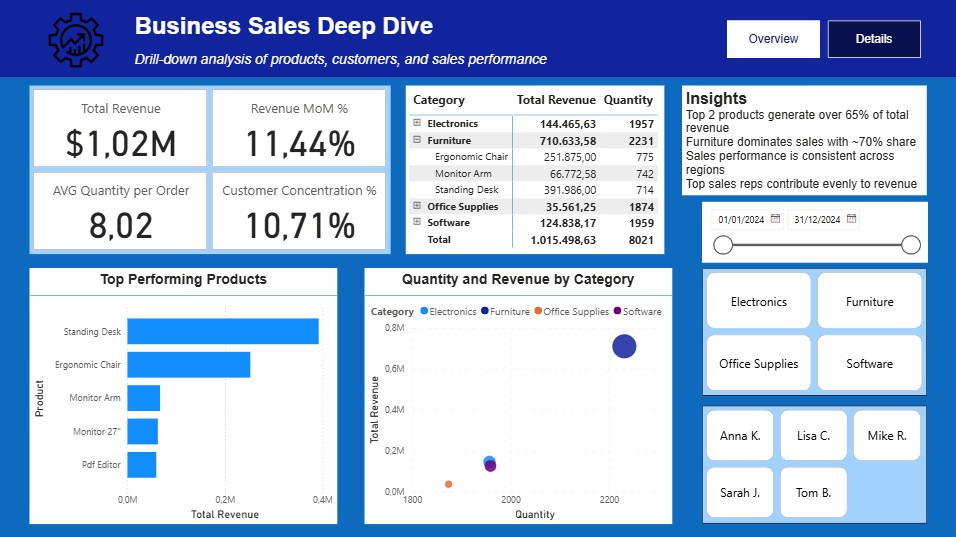

The dashboard page shown, as its layout file describes it:
{"tool":"powerbi","page":{"name":"Details","canvas":[1280,720],"ordinal":1},"visuals":[{"type":"shape","box":[0,0,1279.7,106.8],"z":0},{"type":"shape","box":[0,106.8,1279.7,613.2],"z":2000},{"type":"cardVisual","fields":{"Data":["SalesUS.Total Revenue","SalesUS.Revenue MoM %","SalesUS.AVG Quantity per Order","SalesUS.Customer Concentration %"]},"box":[42.5,116.2,481.2,225],"z":3000},{"type":"textbox","box":[178.6,15.7,571.4,45.7],"z":4000},{"type":"pivotTable","fields":{"Rows":["SalesUS.category","SalesUS.product"],"Values":["SalesUS.Total Revenue","Sum(SalesUS.quantity)"]},"box":[545,116.2,345,225],"z":6000},{"type":"slicer","fields":{"Values":["SalesUS.date"]},"box":[940,271.2,300,80],"z":7000},{"type":"advancedSlicerVisual","fields":{"Values":["SalesUS.sales_rep"]},"box":[940,543.8,300,157.5],"z":8000},{"type":"advancedSlicerVisual","fields":{"Values":["SalesUS.category"]},"box":[940,360,300,170],"z":9000},{"type":"scatterChart","title":"Quantity and Total Revenue by Category","fields":{"X":["Sum(SalesUS.quantity)"],"Y":["SalesUS.Total Revenue"],"Size":["SalesUS.Total Revenue"],"Series":["SalesUS.category"]},"box":[490,396.2,410,305],"z":10000},{"type":"textbox","box":[913.8,116.2,326.2,146.2],"z":11000},{"type":"barChart","fields":{"Y":["SalesUS.Total Revenue"],"Category":["SalesUS.product"]},"box":[42.5,396.2,410,305],"z":12000},{"type":"textbox","box":[42.5,360,410,36.2],"z":13000},{"type":"textbox","box":[490,360,410,36.2],"z":14000},{"type":"image","box":[42.9,15.7,124.3,82.9],"z":14001},{"type":"textbox","box":[178.6,67.1,561.4,31.4],"z":14002},{"type":"pageNavigator","box":[972.9,30,258.6,50],"z":14003}]}

Visuals, with their boxes in screenshot pixels (x1, y1, x2, y2), scaled from the page's 1280x720 canvas onto the 956x537 screenshot:
shape: (0,0,955,80)
shape: (0,80,955,536)
cardVisual - SalesUS.Total Revenue x SalesUS.Revenue MoM %: (32,87,391,254)
textbox: (133,12,560,46)
pivotTable - SalesUS.category x SalesUS.product: (407,87,665,254)
slicer - SalesUS.date: (702,202,926,262)
advancedSlicerVisual - SalesUS.sales_rep: (702,406,926,523)
advancedSlicerVisual - SalesUS.category: (702,268,926,395)
"Quantity and Total Revenue by Category" scatterChart: (366,295,672,523)
textbox: (682,87,926,196)
barChart - SalesUS.Total Revenue x SalesUS.product: (32,295,338,523)
textbox: (32,268,338,295)
textbox: (366,268,672,295)
image: (32,12,125,74)
textbox: (133,50,553,73)
pageNavigator: (727,22,920,60)
